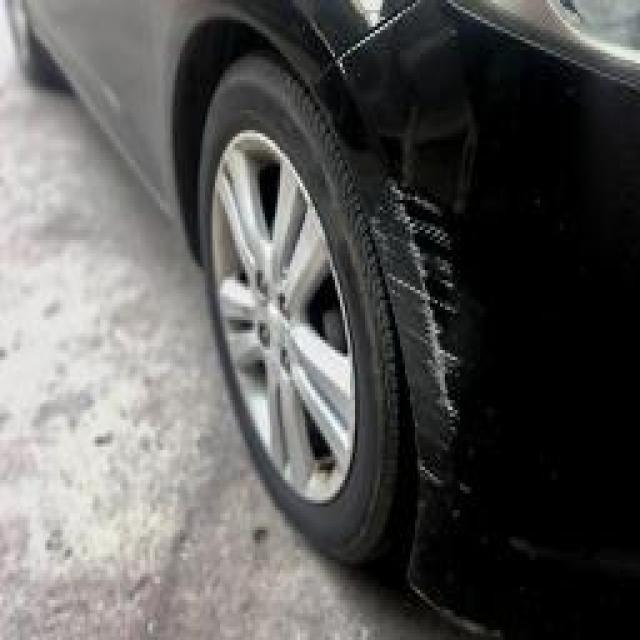Bumper: (375, 153, 525, 493)
